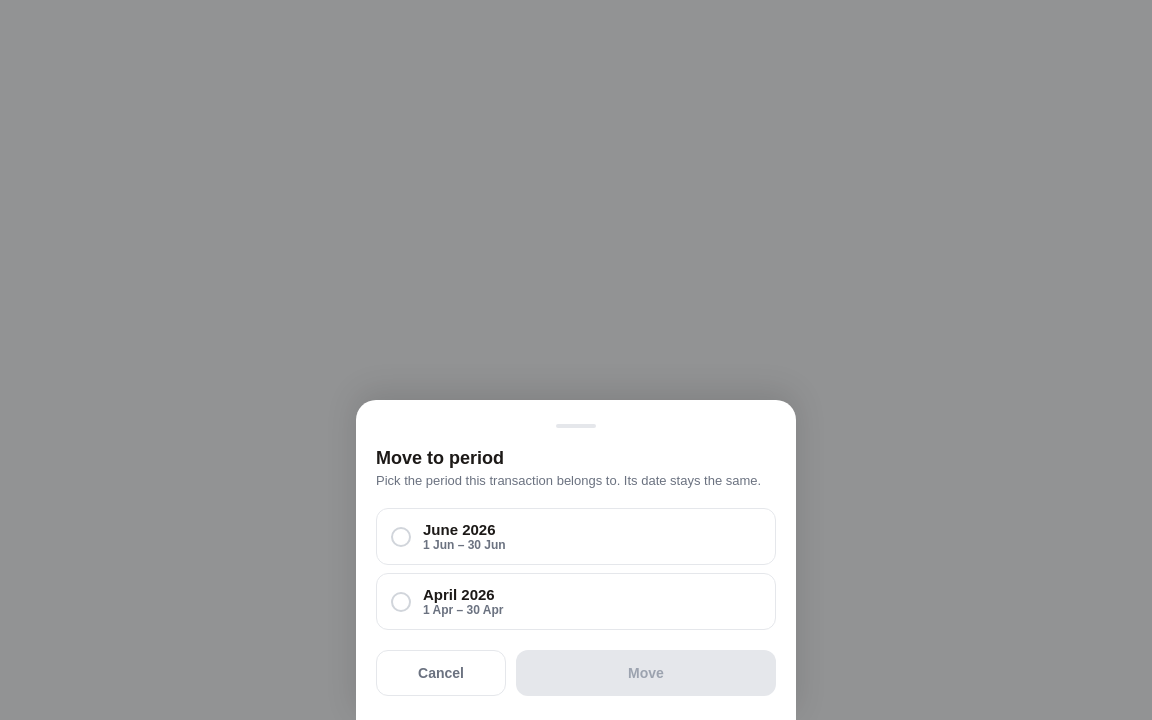
it: MoveCycleSheet › disables Confirm until a period is selected, then enables it
This screenshot has width=1152, height=720.
Expected: the button with test id "move-confirm-btn" is disabled, [516,650,776,696]
Click the button with test id "move-cycle-option-cyc-jun" at (459, 530), box [376,508,776,565]
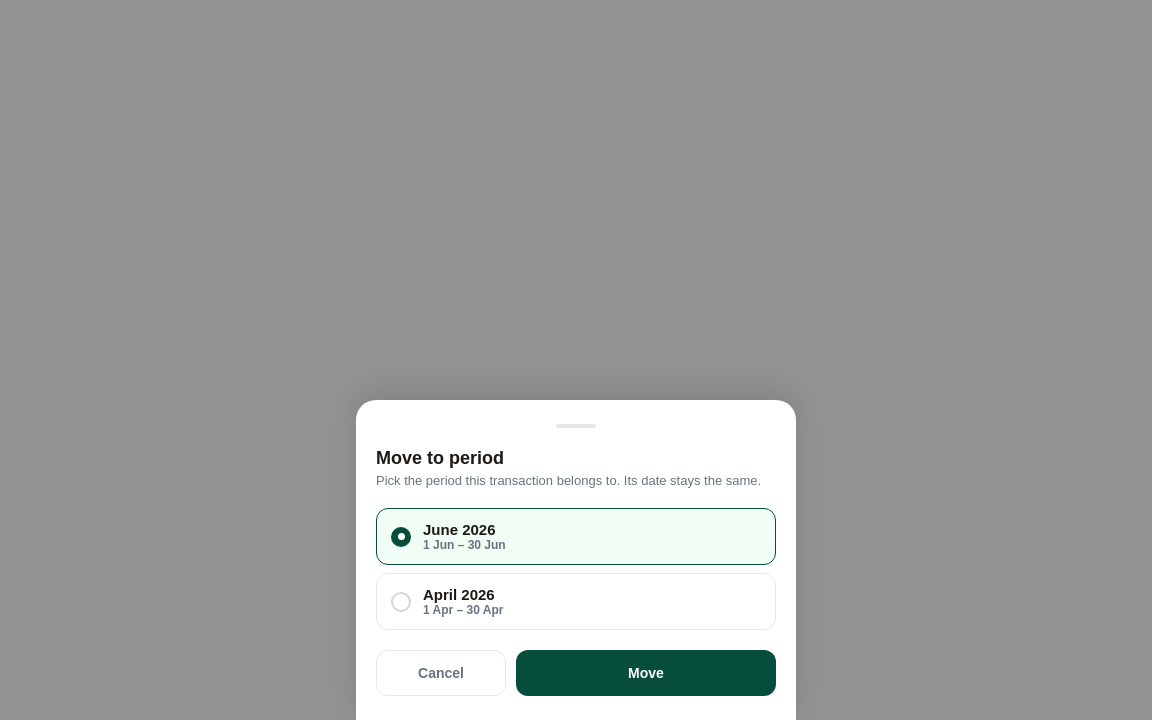
Now the button with test id "move-confirm-btn" is enabled, box [516,650,776,696]
